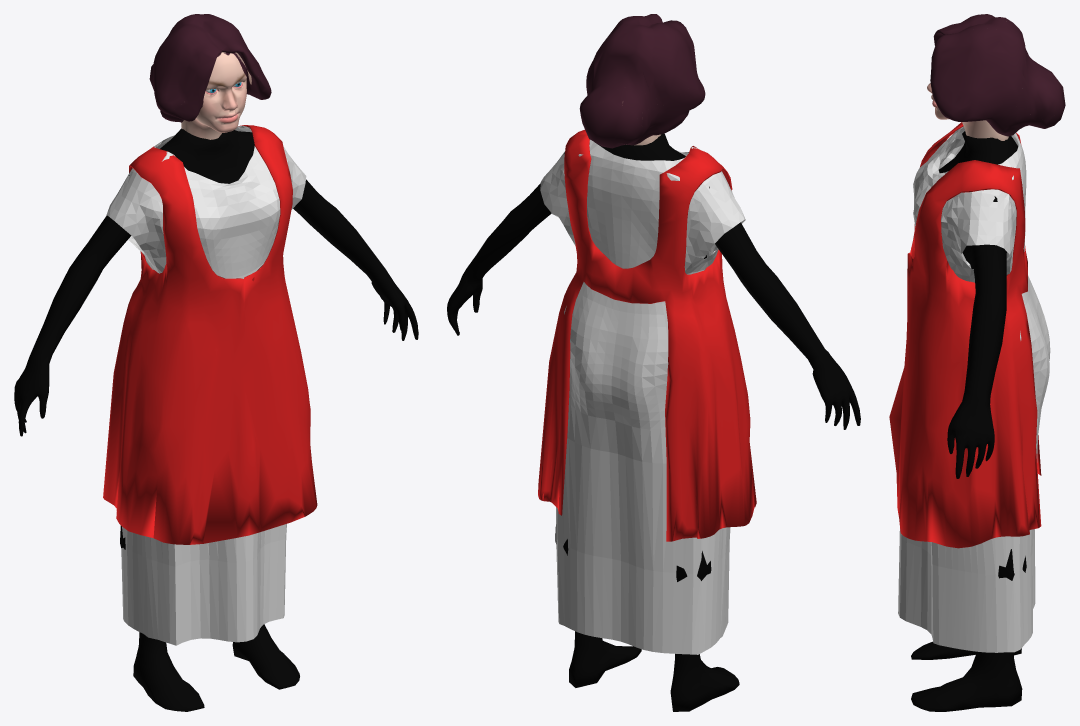
File: femaleNPC3.fbx
The picture shows the model from 3 angles, left to right: view 1: azimuth 30°, elevation 25°; view 2: azimuth 150°, elevation 25°; view 3: azimuth 270°, elevation 25°; orthographic projection. The views are drawn at different scales.
Visible parts, largest first — view 1: apronLow, low, dress; view 2: dress, apronLow, low; view 3: apronLow, low, dress.
Part boxes in pixels (<box>): apronLow: <box>103,125,317,544</box>; low: <box>14,14,418,711</box>; dress: <box>106,126,306,645</box>; dress: <box>540,139,745,654</box>; apronLow: <box>538,129,756,541</box>; low: <box>447,14,860,711</box>; apronLow: <box>889,122,1041,548</box>; low: <box>911,14,1065,711</box>; dress: <box>898,126,1050,652</box>.
Bounding box in the file's own units: 108 × 170 × 41.16.
4 materials, 1 textured.
